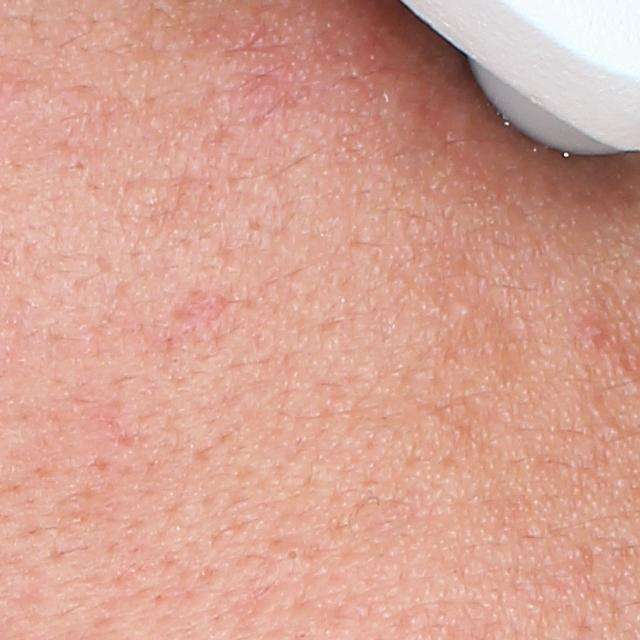comedo: (452, 296, 480, 325), (70, 155, 97, 182), (283, 547, 303, 563)
